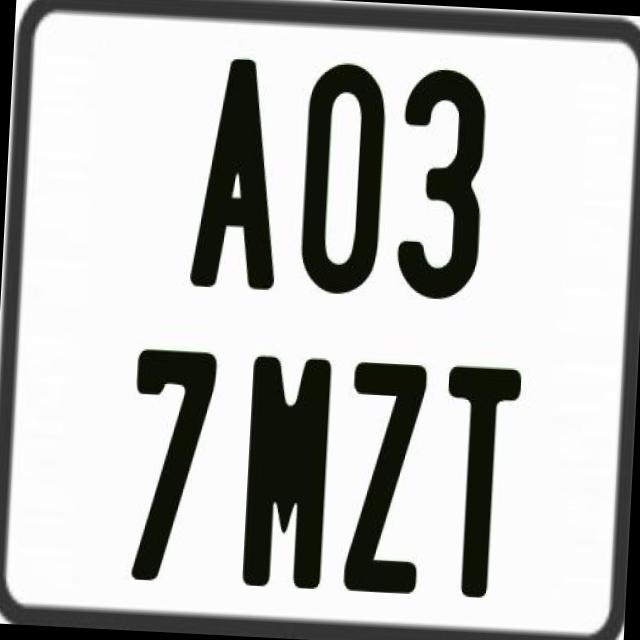0: (296, 61, 388, 302)
3: (396, 63, 492, 300)
7: (127, 346, 221, 580)
A: (185, 54, 288, 290)
M: (239, 353, 333, 598)
T: (437, 362, 523, 596)
Z: (342, 358, 430, 594)
